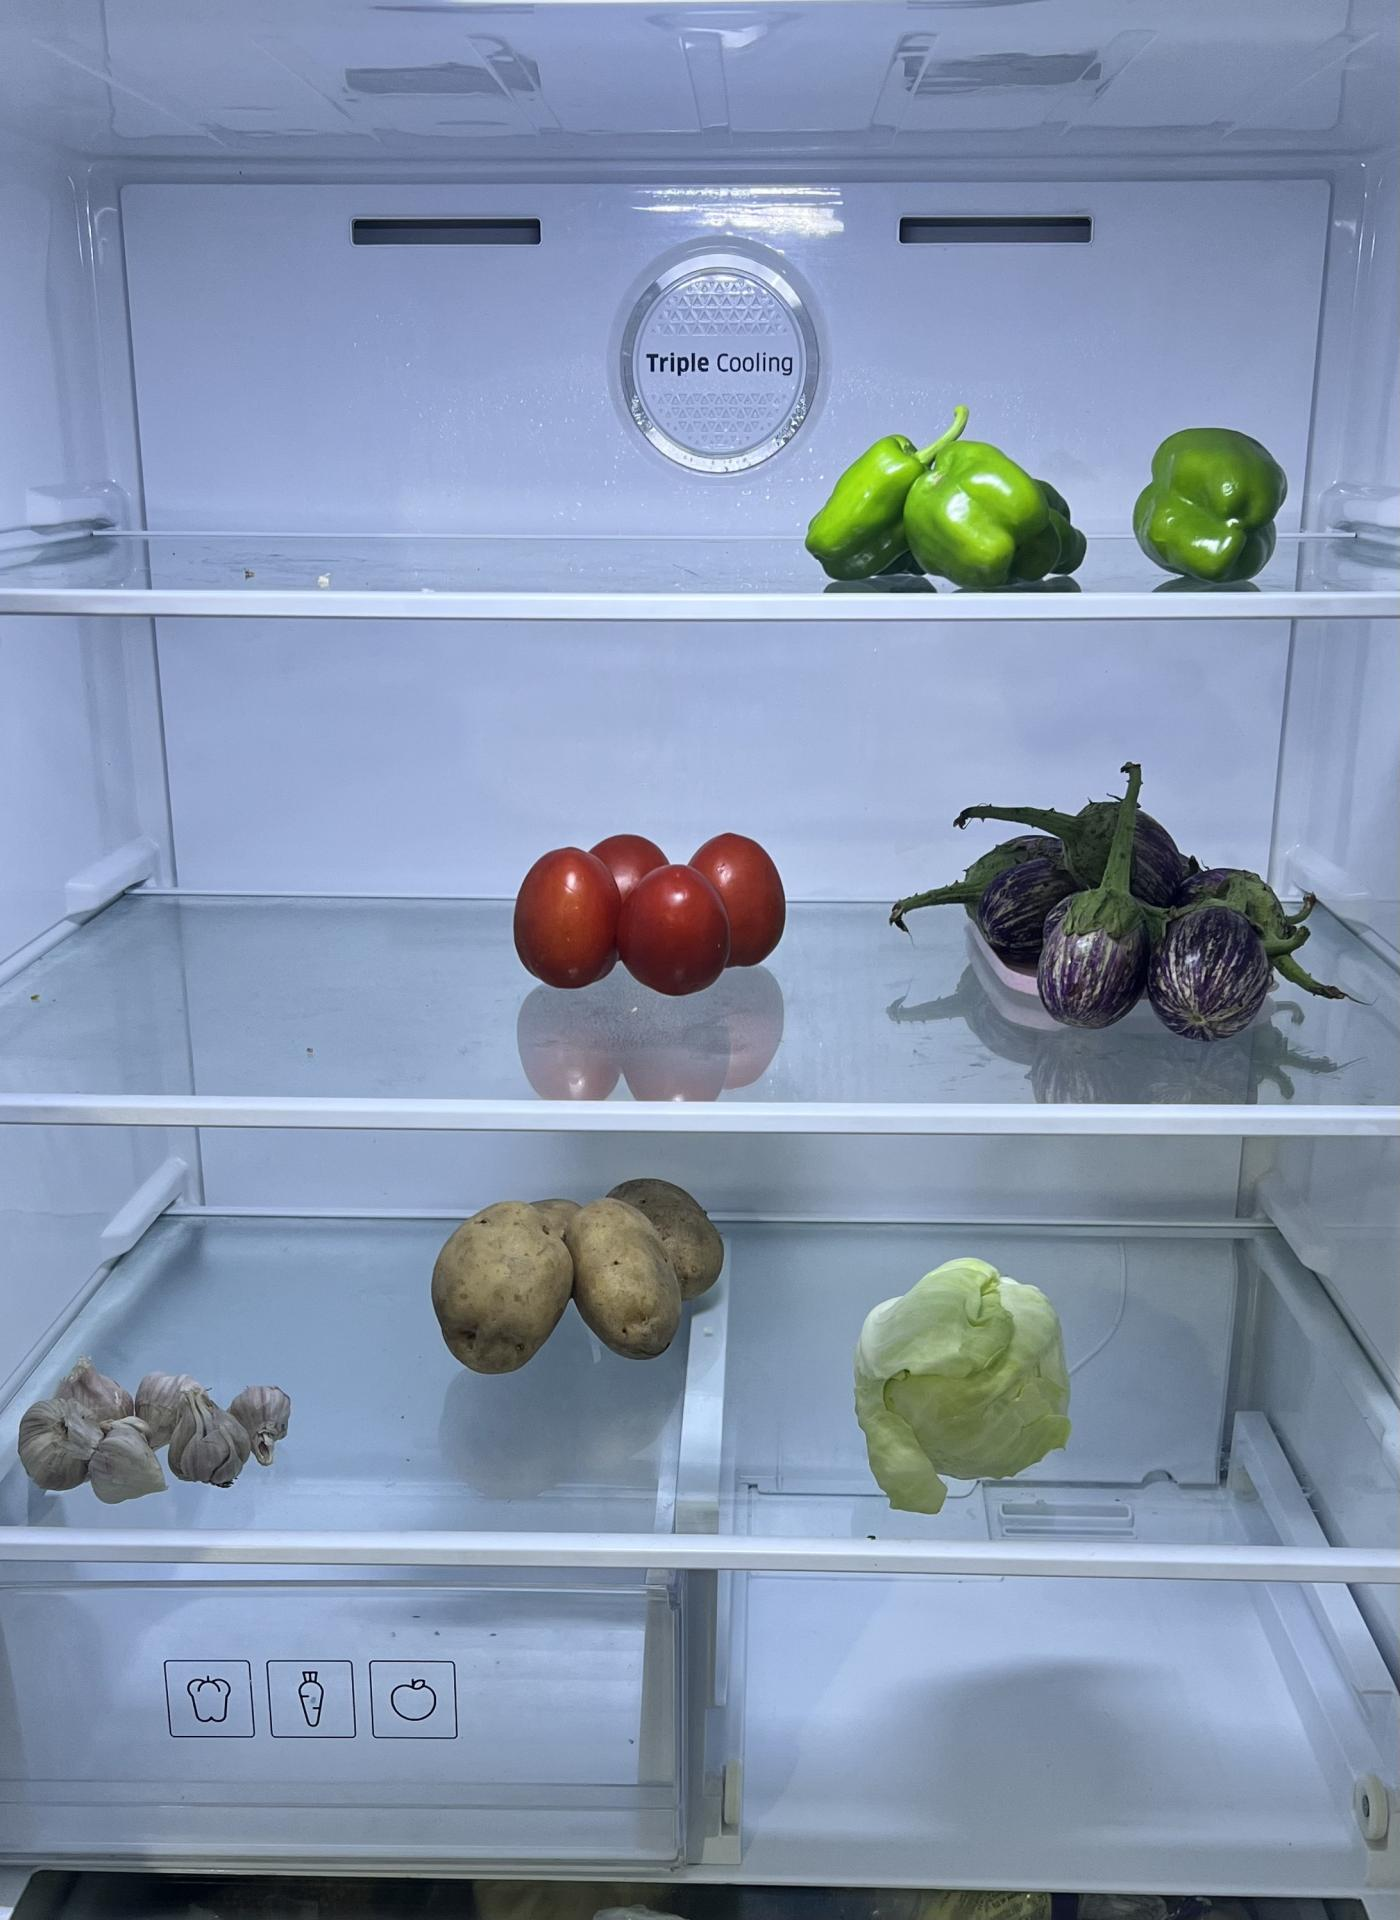brinjal: (947, 803, 1315, 1046)
cabbage: (848, 1254, 1073, 1506)
capsicum: (805, 420, 1087, 596), (1136, 422, 1294, 584)
garlic: (15, 1354, 294, 1506)
potato: (434, 1175, 732, 1374)
tomato: (510, 820, 789, 993)
